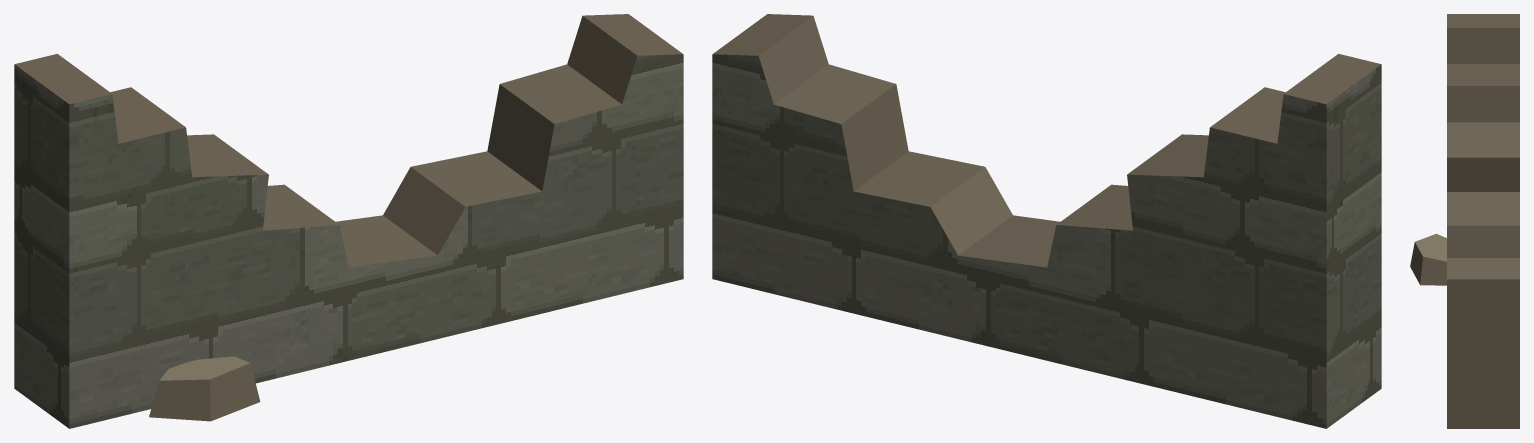
The model's file is tumbled_wall_foot.glb.
The picture shows the model from 3 angles, left to right: view 1: azimuth 30°, elevation 25°; view 2: azimuth 150°, elevation 25°; view 3: azimuth 270°, elevation 25°; orthographic projection. The views are drawn at different scales.
Visible parts, largest first — view 1: Tumbled wall foot; view 2: Tumbled wall foot; view 3: Tumbled wall foot.
Part boxes in pixels (x1,y1,x2,y2): Tumbled wall foot: (14,14,683,428); Tumbled wall foot: (712,14,1381,428); Tumbled wall foot: (1410,14,1519,428).
Size of the model in its own units: 2 by 1.01 by 0.4659.
Materials: 3 (1 with a texture image).
